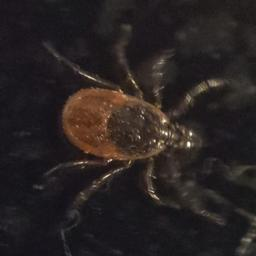Ixodes scapularis: (39, 23, 233, 218)
